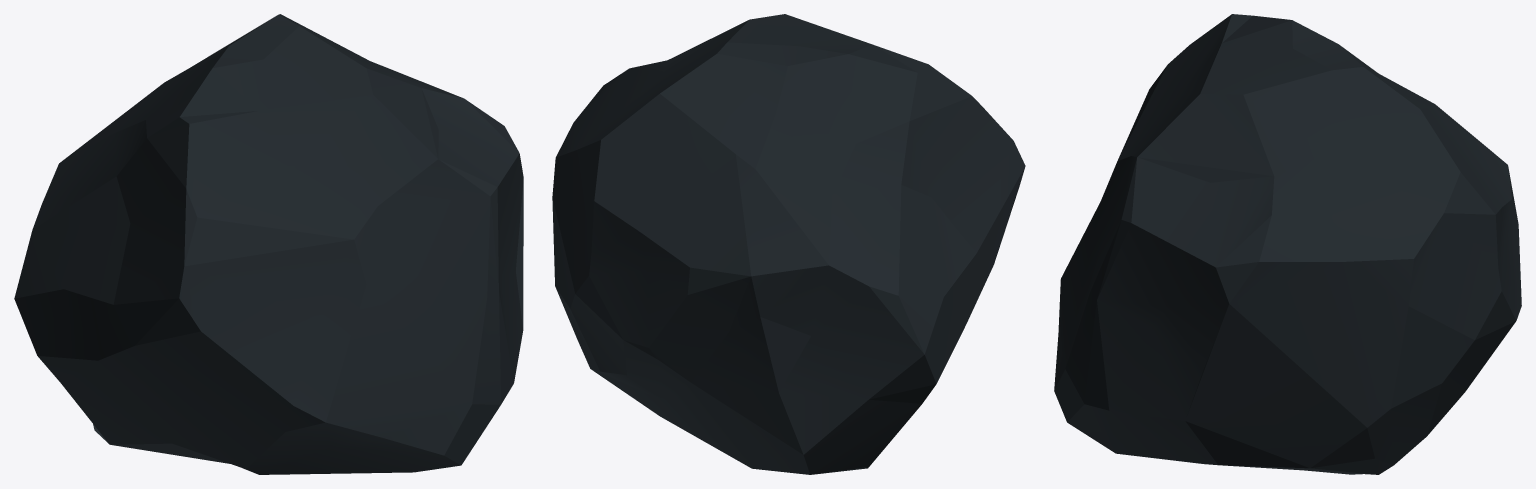
File: Asteroid_s_24.FBX
The picture shows the model from 3 angles, left to right: view 1: azimuth 30°, elevation 25°; view 2: azimuth 150°, elevation 25°; view 3: azimuth 270°, elevation 25°; orthographic projection. The views are drawn at different scales.
Visible parts, largest first — view 1: Asteroid_s_24; view 2: Asteroid_s_24; view 3: Asteroid_s_24.
Part boxes in pixels (<box>): Asteroid_s_24: <box>14,14,523,474</box>; Asteroid_s_24: <box>552,14,1025,474</box>; Asteroid_s_24: <box>1054,14,1521,474</box>.
Bounding box in the file's own units: 129 × 125 × 128.
